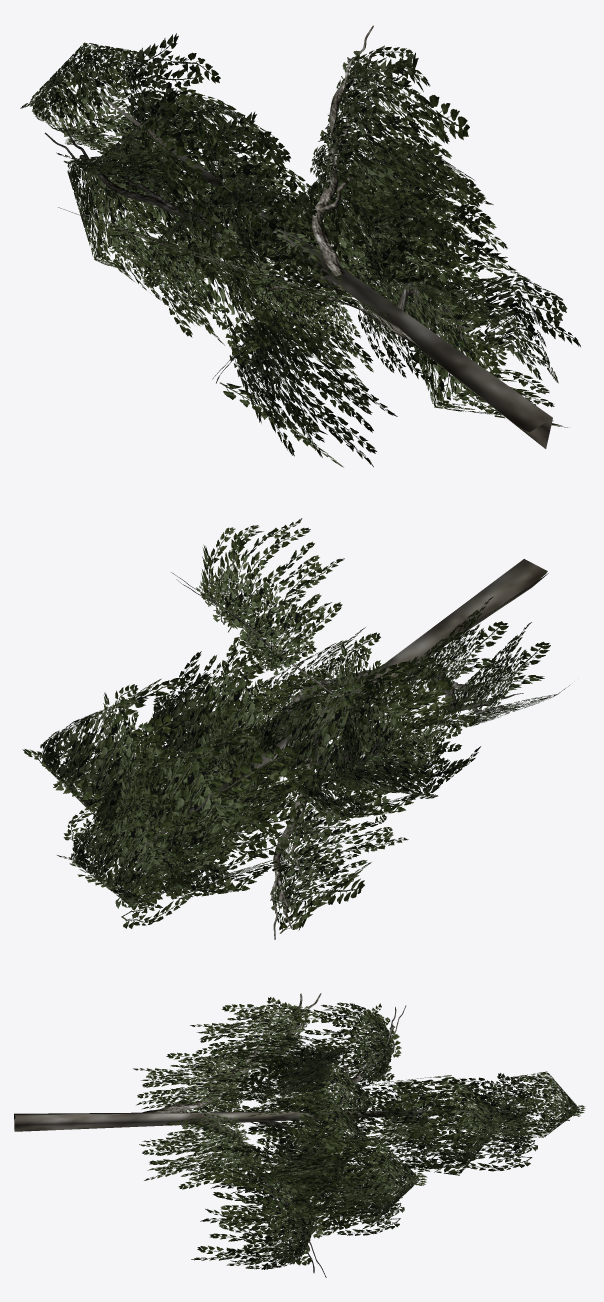
Rendered from MEP_Birch_01_c_LOD_01.fbx.
3 renders of one model, top to bottom at view 1: azimuth 30°, elevation 25°; view 2: azimuth 150°, elevation 25°; view 3: azimuth 270°, elevation 25°, orthographic. The views are drawn at different scales.
Visible parts, largest first — view 1: MEP_Birch_01_c_LOD_01; view 2: MEP_Birch_01_c_LOD_01; view 3: MEP_Birch_01_c_LOD_01.
Boxes of the visible parts, box(x1,y1,x2,y2) form: MEP_Birch_01_c_LOD_01: box(20, 25, 580, 467); MEP_Birch_01_c_LOD_01: box(22, 518, 569, 939); MEP_Birch_01_c_LOD_01: box(14, 993, 585, 1277).
Bounding box in the file's own units: 9.66 × 7.52 × 16.82.
